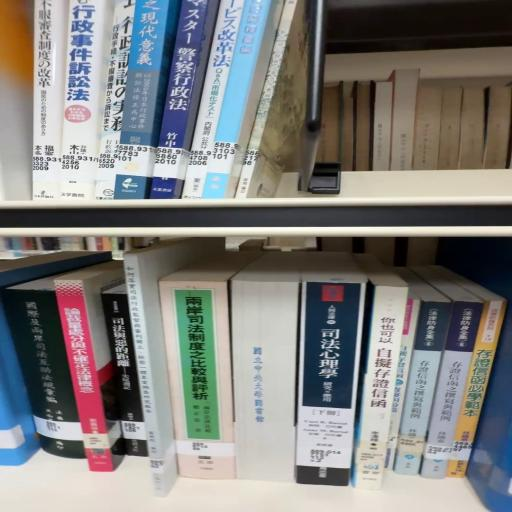backward: (232, 253, 307, 483)
book: (1, 259, 125, 464), (296, 278, 371, 490), (423, 299, 507, 479), (352, 278, 418, 490), (165, 278, 240, 444), (393, 301, 454, 481), (464, 306, 509, 512), (103, 284, 147, 459)
